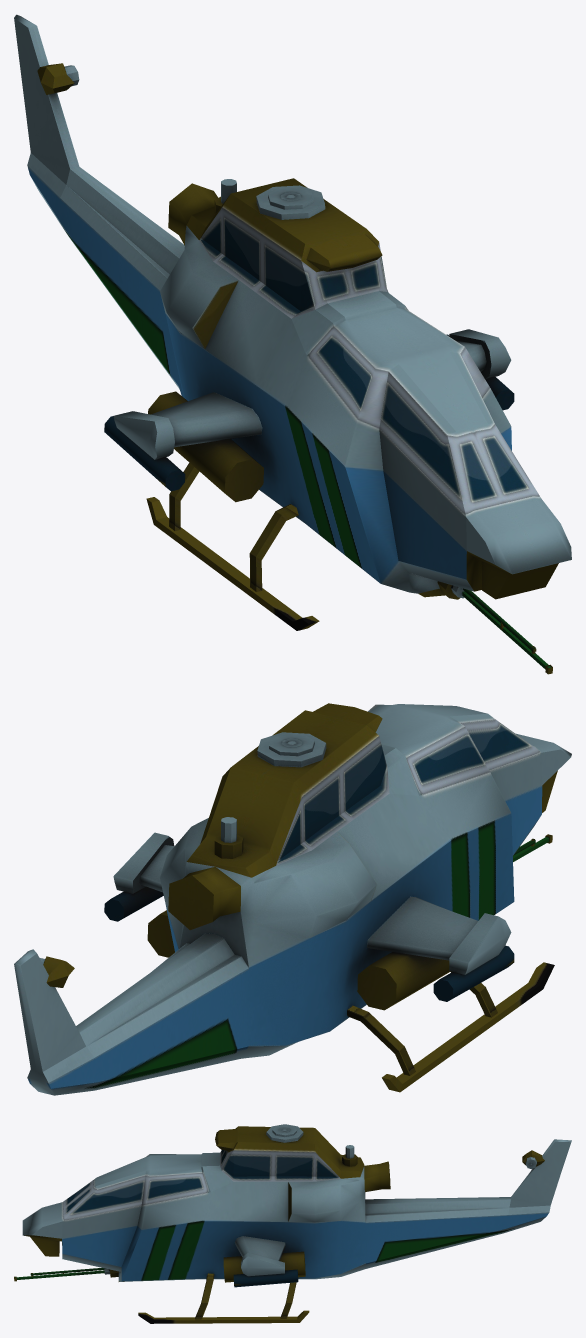
File: chopper2.obj
3 renders of one model, top to bottom at view 1: azimuth 30°, elevation 25°; view 2: azimuth 150°, elevation 25°; view 3: azimuth 270°, elevation 25°, orthographic. The views are drawn at different scales.
Parts seen in each view (by area): view 1: Catoon_AH1; view 2: Catoon_AH1; view 3: Catoon_AH1.
Part boxes in pixels (left/top/right/bottom): Catoon_AH1: left=14, top=14, right=571, bottom=674; Catoon_AH1: left=14, top=703, right=571, bottom=1095; Catoon_AH1: left=14, top=1124, right=571, bottom=1323.
Bounding box in the file's own units: 23.87 × 19.88 × 61.99.
1 material, 1 textured.
